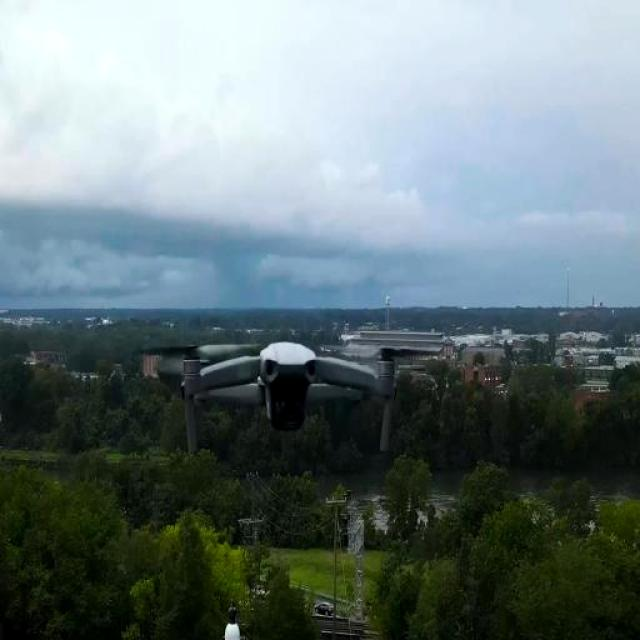bird: (172, 294, 409, 446)
